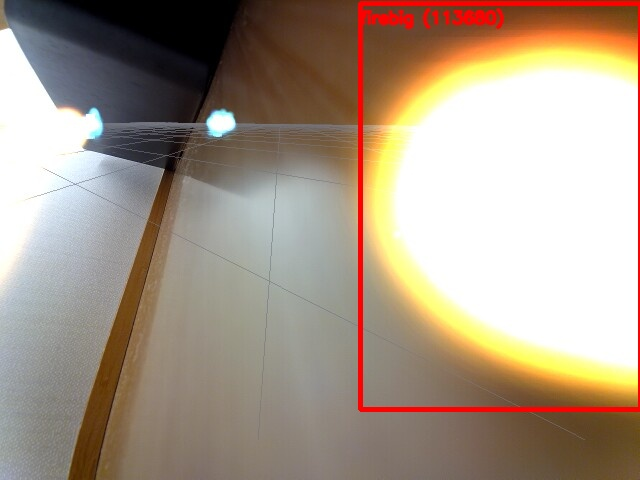firebig: (360, 3, 640, 409)
